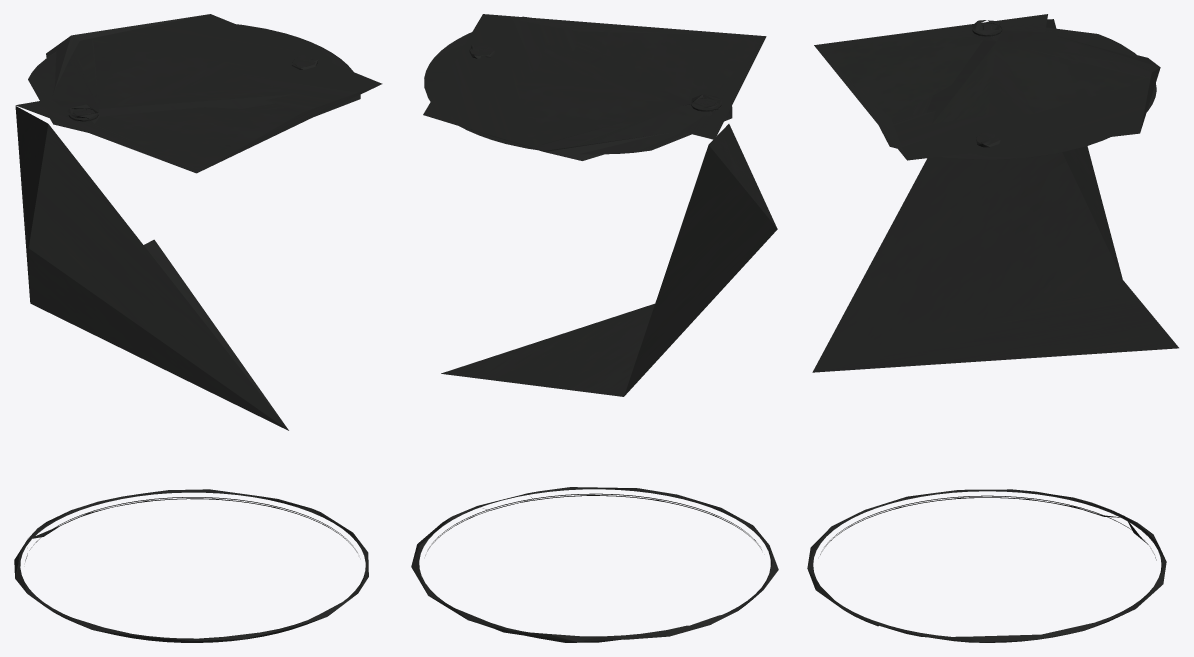
The model's file is waste_recycling_container_c01.glb.
The picture shows the model from 3 angles, left to right: view 1: azimuth 30°, elevation 25°; view 2: azimuth 150°, elevation 25°; view 3: azimuth 270°, elevation 25°; orthographic projection.
Parts seen in each view (by area): view 1: geometry_0; view 2: geometry_0; view 3: geometry_0.
Part boxes in pixels (x1=…): geometry_0: x1=14, y1=14, x2=382, y2=642; geometry_0: x1=411, y1=14, x2=778, y2=642; geometry_0: x1=807, y1=14, x2=1178, y2=642.
Bounding box in the file's own units: 0.2944 × 0.42 × 0.2879.
Materials: 1 (1 with a texture image).
